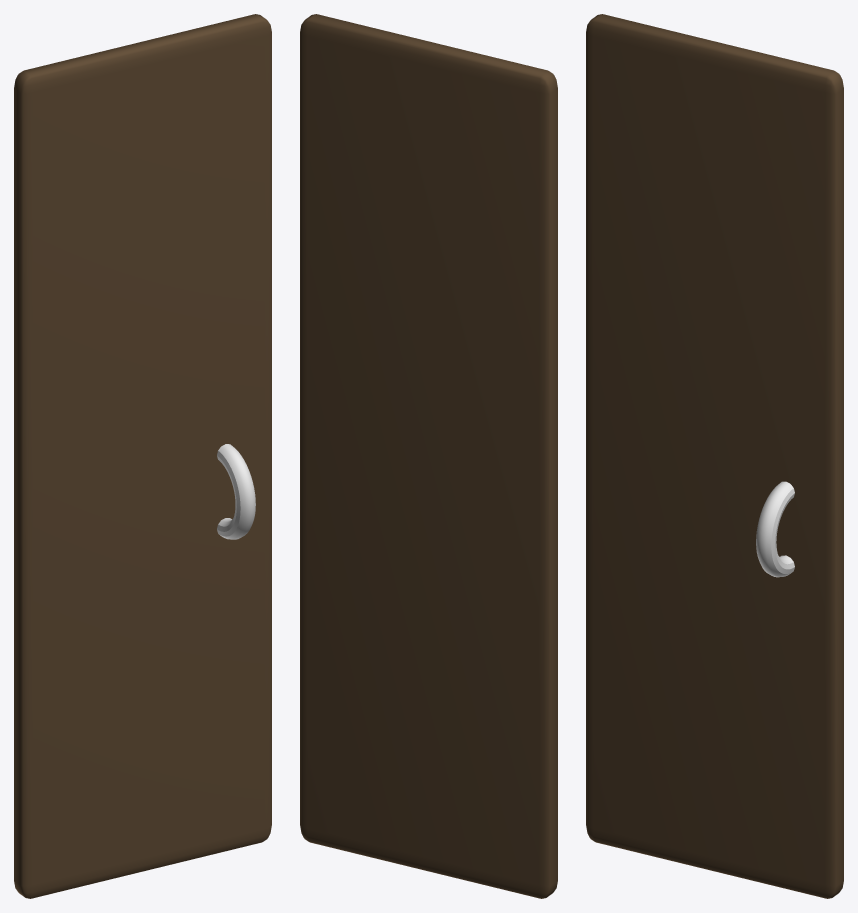
Rendered from Level02_Door_Left.fbx.
3 views of the same model, side by side, from view 1: azimuth 30°, elevation 25°; view 2: azimuth 150°, elevation 25°; view 3: azimuth 330°, elevation 25° (orthographic).
Visible parts, largest first — view 1: Cupboard_Doors, Torus; view 2: Cupboard_Doors; view 3: Cupboard_Doors, Torus.
Part boxes in pixels (x1,y1,x2,y2): Cupboard_Doors: (14,14,271,898); Torus: (217,444,255,539); Cupboard_Doors: (300,14,557,898); Cupboard_Doors: (586,14,843,898); Torus: (756,481,794,577).
Bounding box in the file's own units: 169 × 530 × 42.64.
